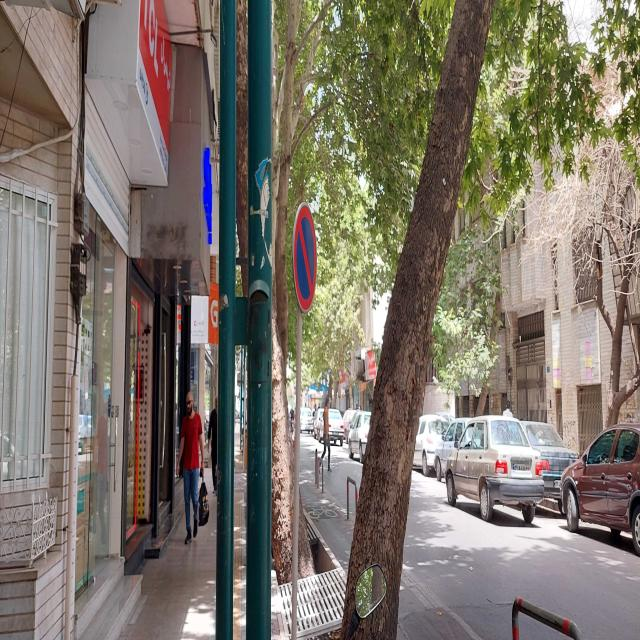forb_stopping: (293, 203, 317, 311)
